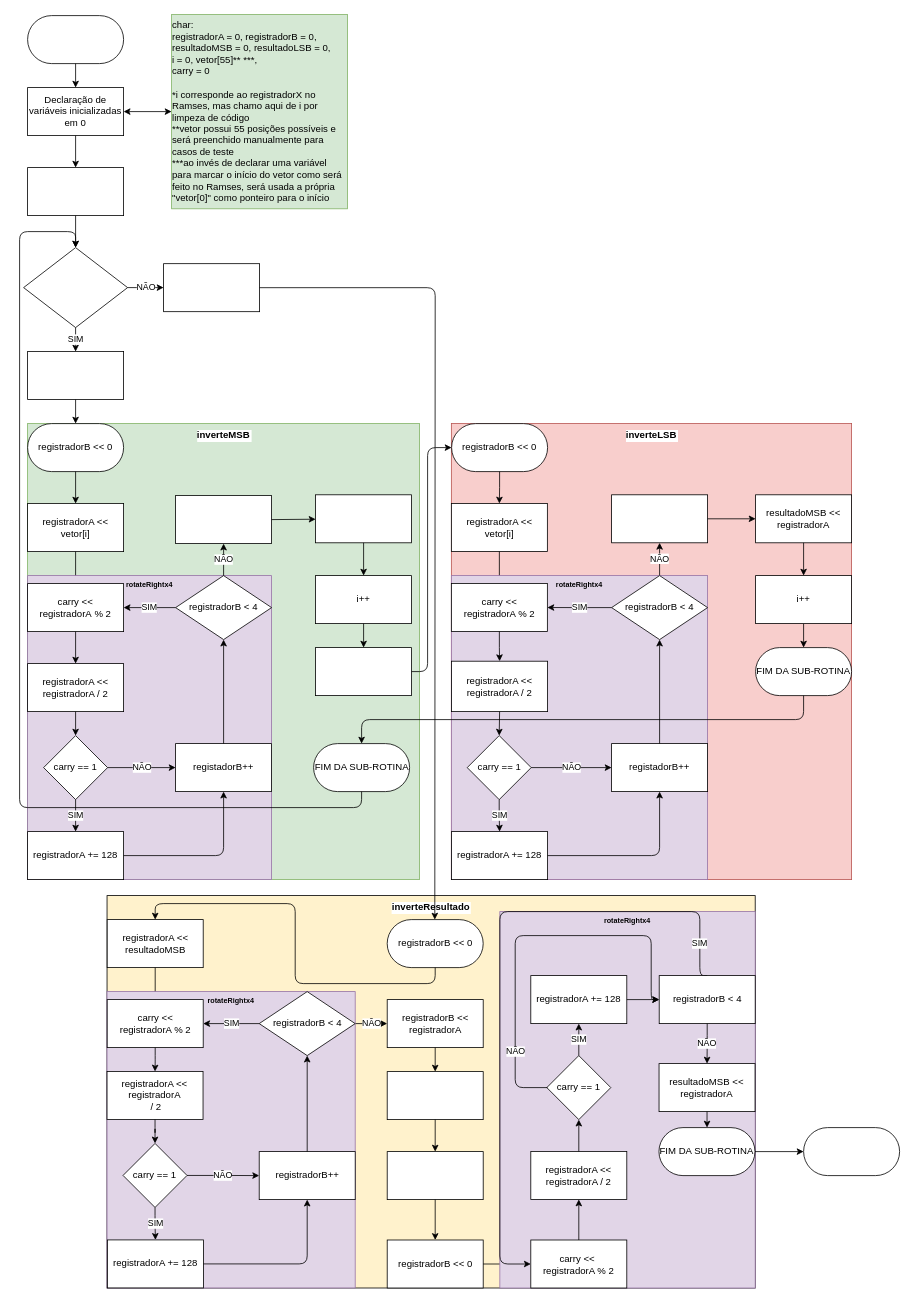
Some shapes in this 914 by 1302 pixel diagram are drawn without their labels. The shapes that lost their labels are listed below. From the top down, each one's centre as x and y in pixels, then its label:
At point (75, 39): "INÍCIO DO PROGRAMA".
At point (75, 191): "Leitura do endereço de início do vetor para variável ponteiro".
At point (75, 287): "vetor[i] OU vetor[i+1] são diferentes de 0?".
At point (211, 287): "sub-rotina (função) inverteResultado".
At point (75, 375): "sub-rotina (função) inverteMSB".
At point (223, 519): "registradorA += resultadoLSB".
At point (363, 518): "resultadoLSB << registradorA".
At point (659, 518): "registradorA += resultadoMSB".
At point (363, 671): "sub-rotina (função) inverteLSB".
At point (434, 1095): "registradorA << resultadoLSB".
At point (851, 1151): "FIM DO PROGRAMA".
At point (434, 1175): "resultadoLSB << registradorB".
